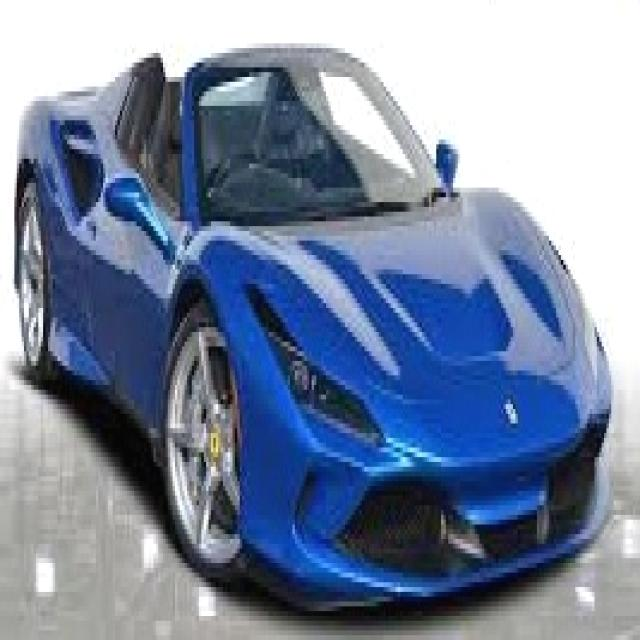blue: (7, 0, 608, 640)
